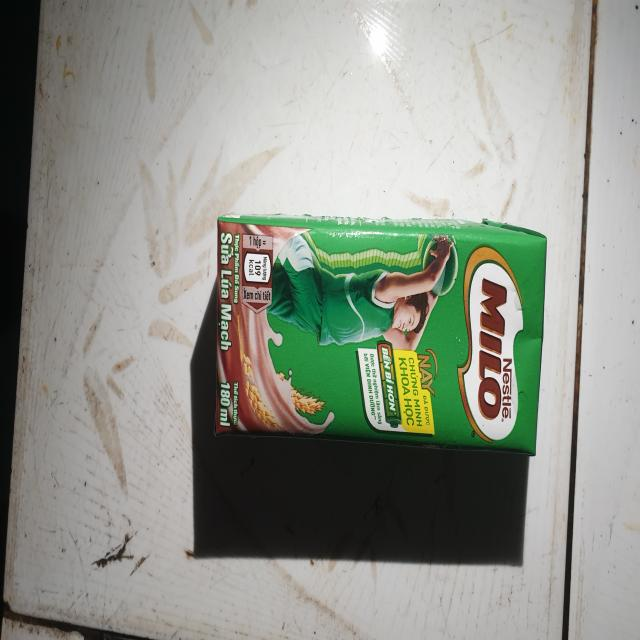Milo: (216, 219, 550, 453)
